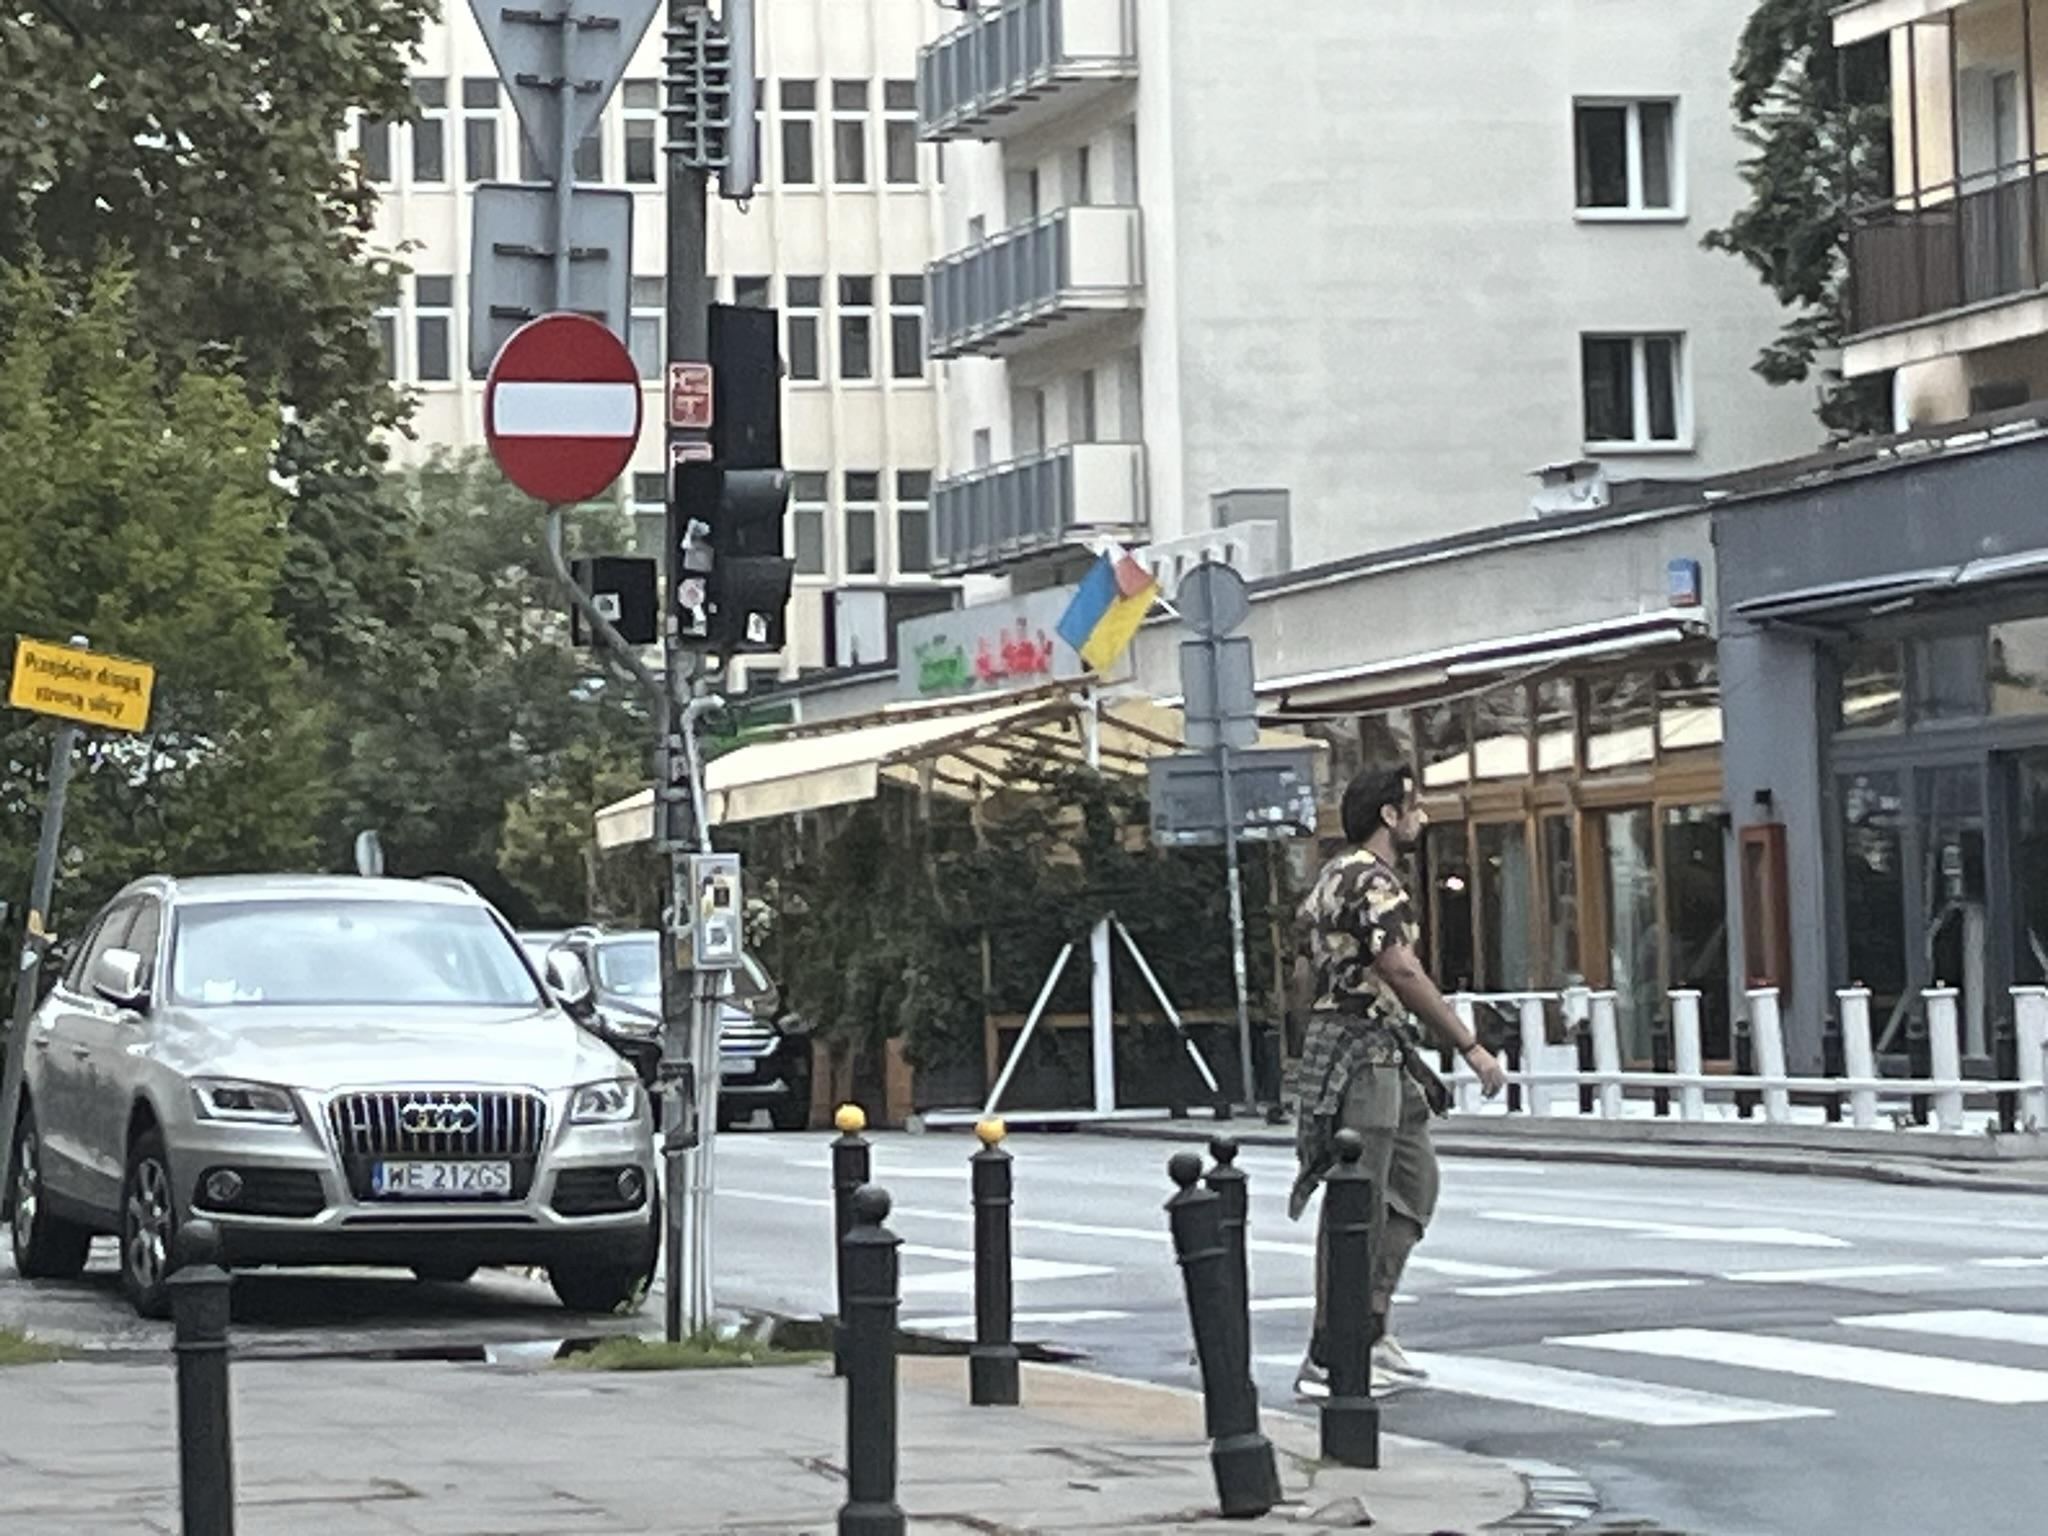other: (6, 629, 156, 741)
prohibitory: (482, 310, 647, 508)
